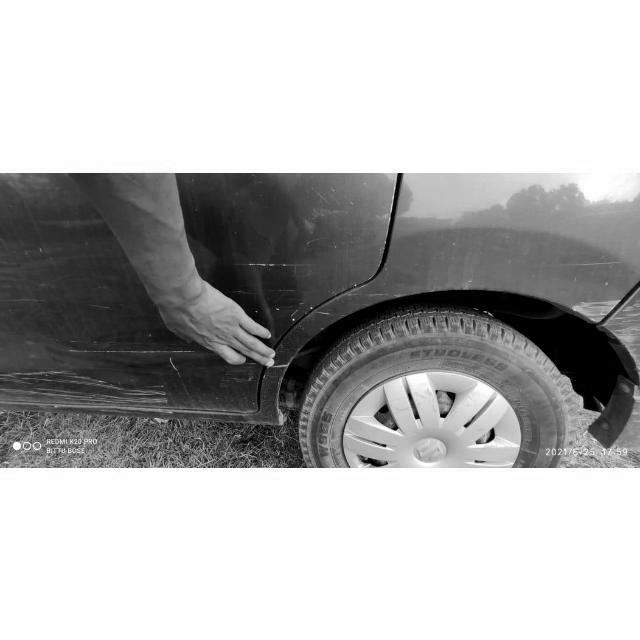doorouter-dent: (1, 173, 278, 412)
quaterpanel-dent: (384, 174, 624, 340)
